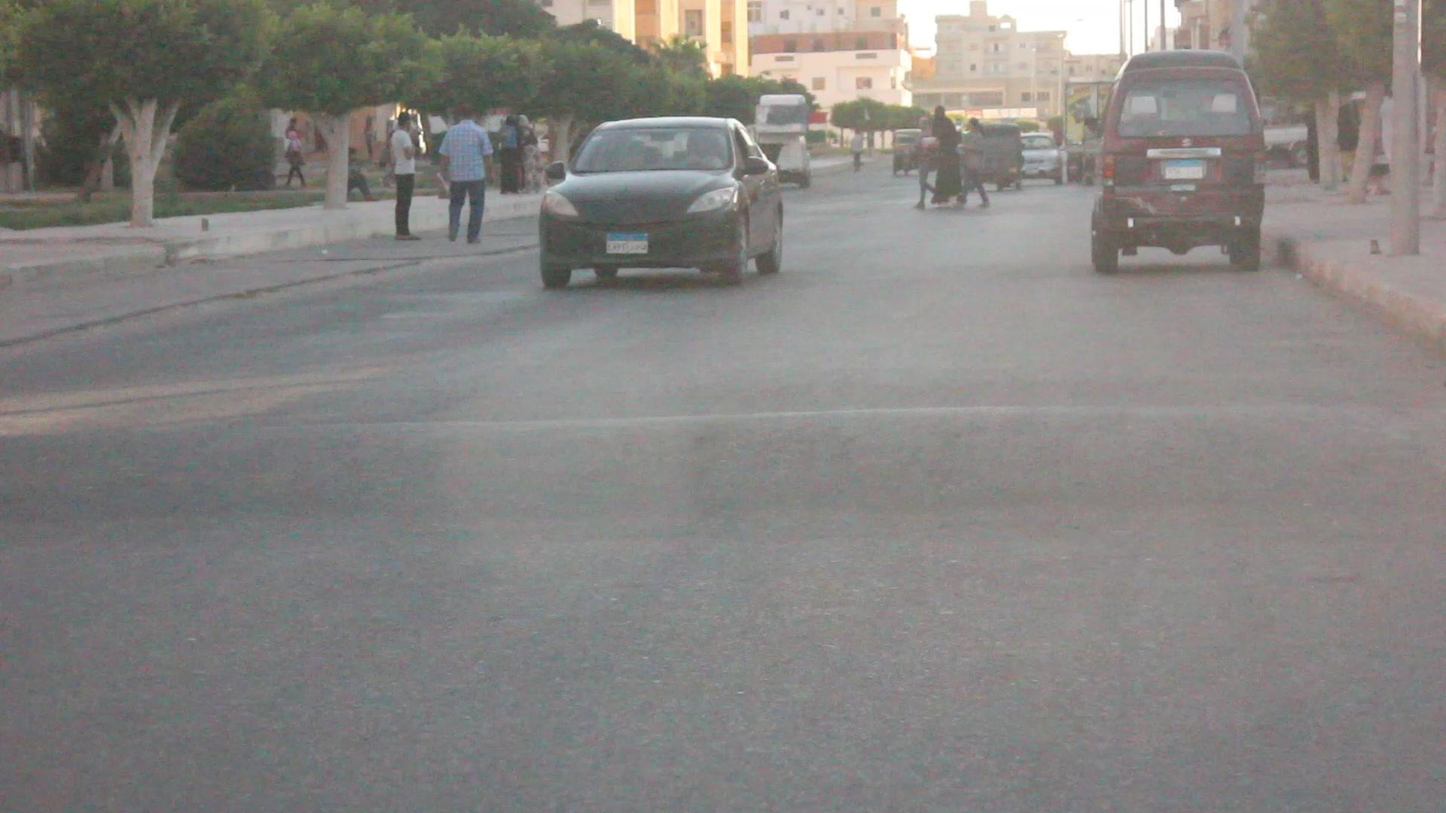Bump: (11, 388, 1438, 506)
